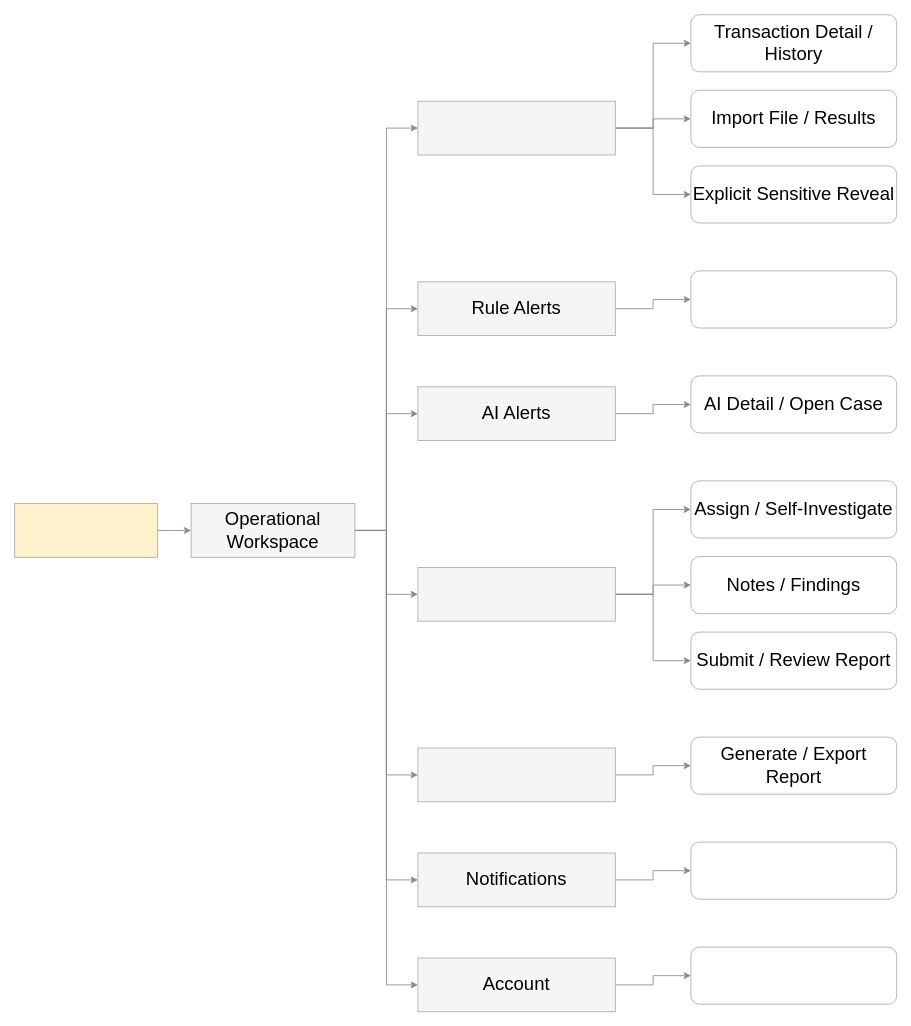
The diagram is 911 pixels wide and 1026 high, and some of its shapes have lost their labels. The centre of each missing label's shape, as x and y in pixels:
"Authorized Record Link" goes at point (793, 870).
"Cases" goes at point (516, 594).
"Change Password / Log Out" goes at point (793, 975).
"Dashboard / Reports" goes at point (516, 774).
"Enterprise Login" goes at point (86, 530).
"Matched Reasons / Follow-Up" goes at point (793, 299).
"Transactions / Imports" goes at point (516, 127).
